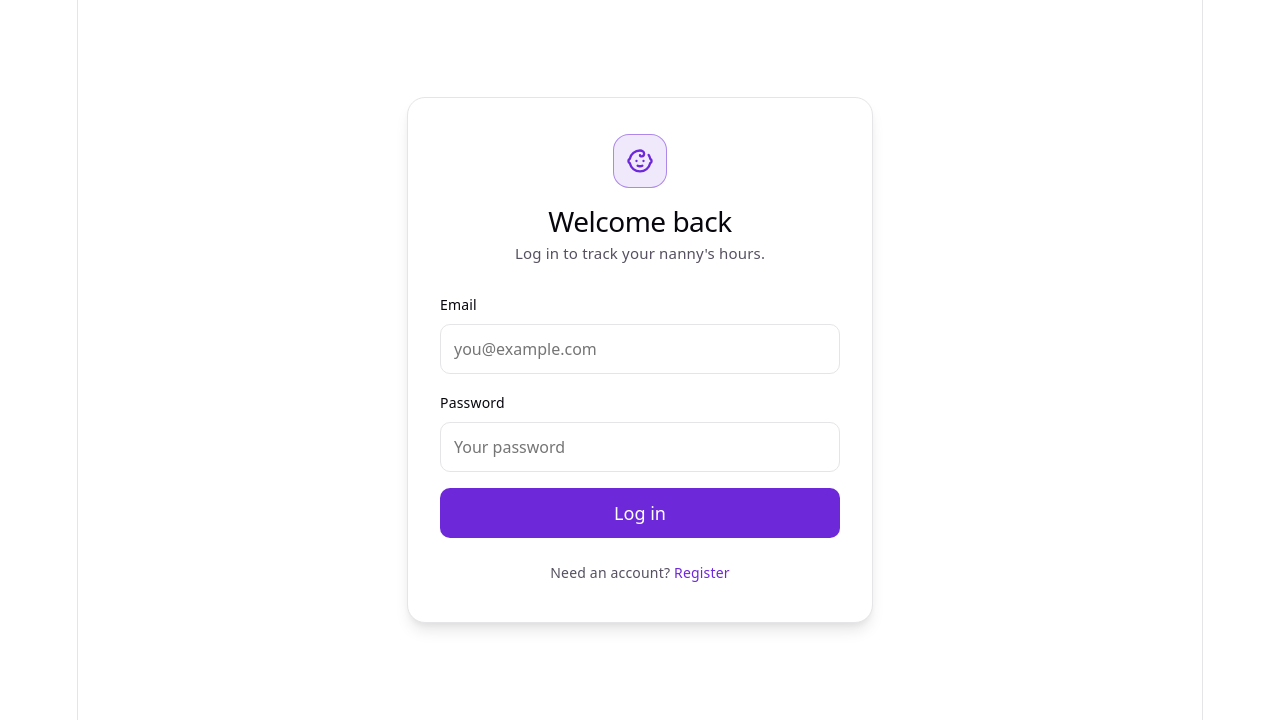
Test: LoginPage › shows an error message when login fails
Type "x@example.com" into the field labelled "Email".
click(640, 349); type("x@example.com")  # box [440, 324, 840, 374]
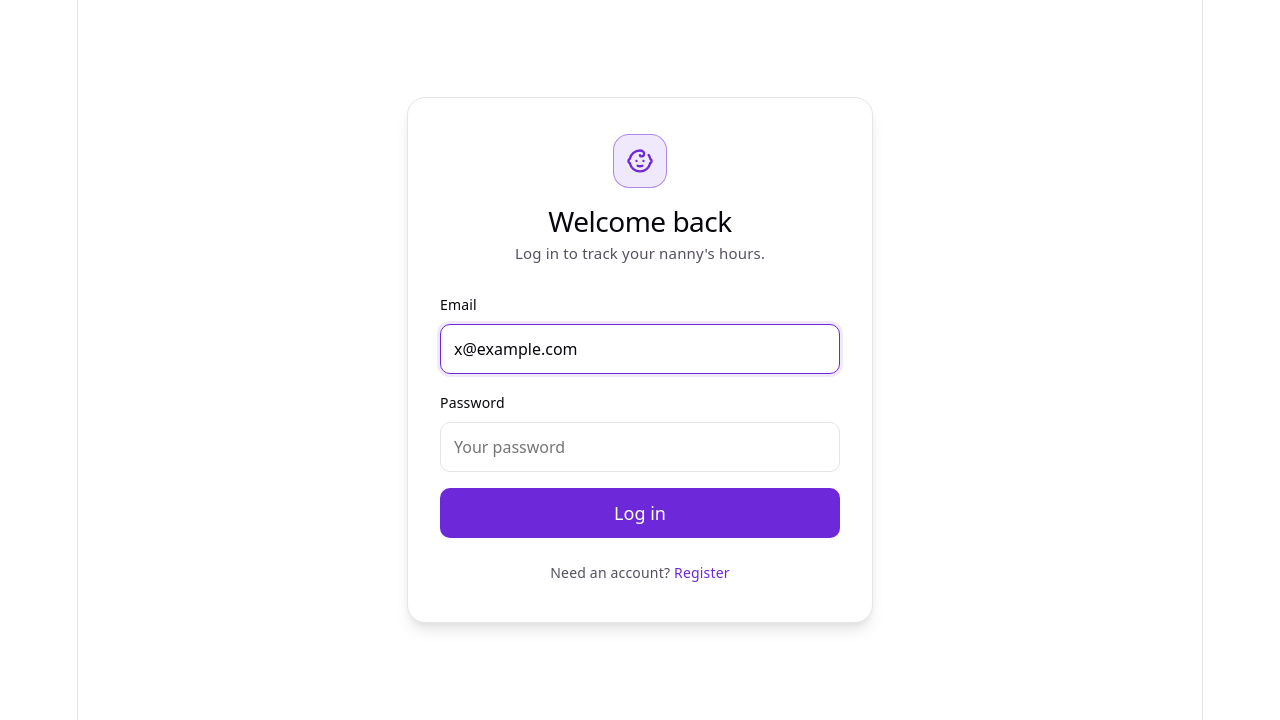
Type "wrong-pass" into the password field labelled "Password".
click(640, 447); type("wrong-pass")  # box [440, 422, 840, 472]
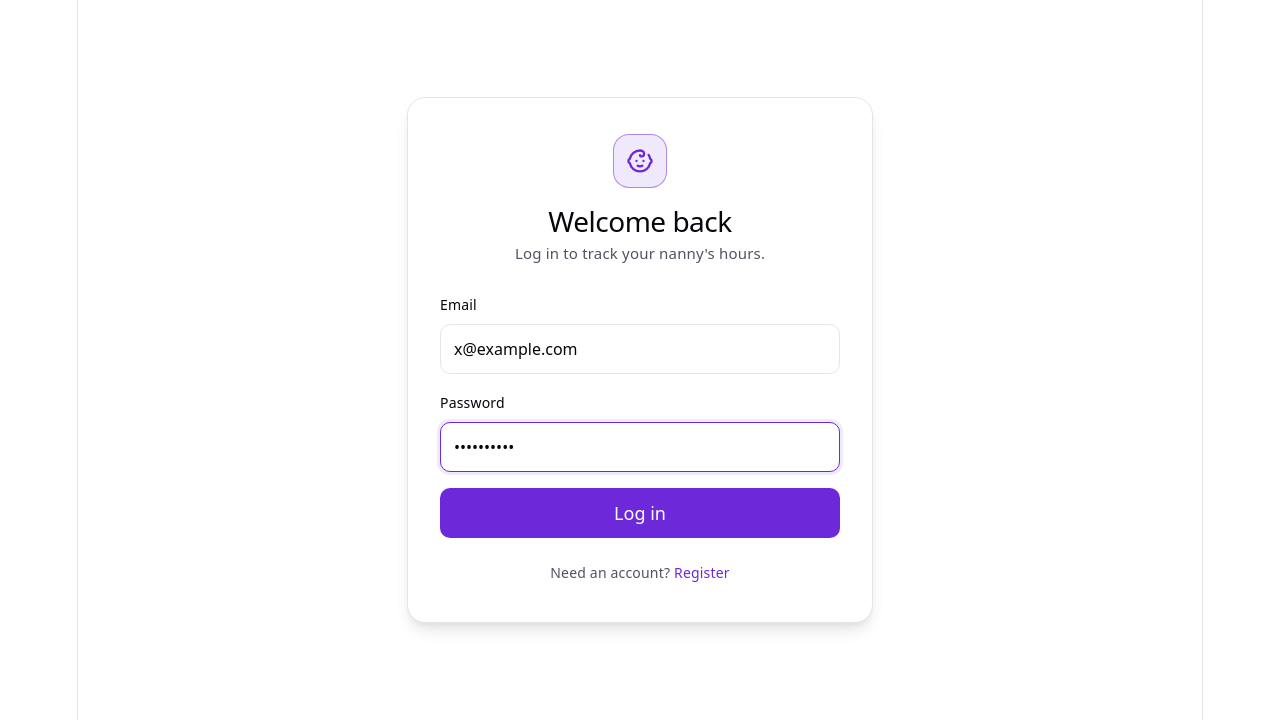
Click the button "Log in".
click(640, 513)  # box [440, 488, 840, 538]
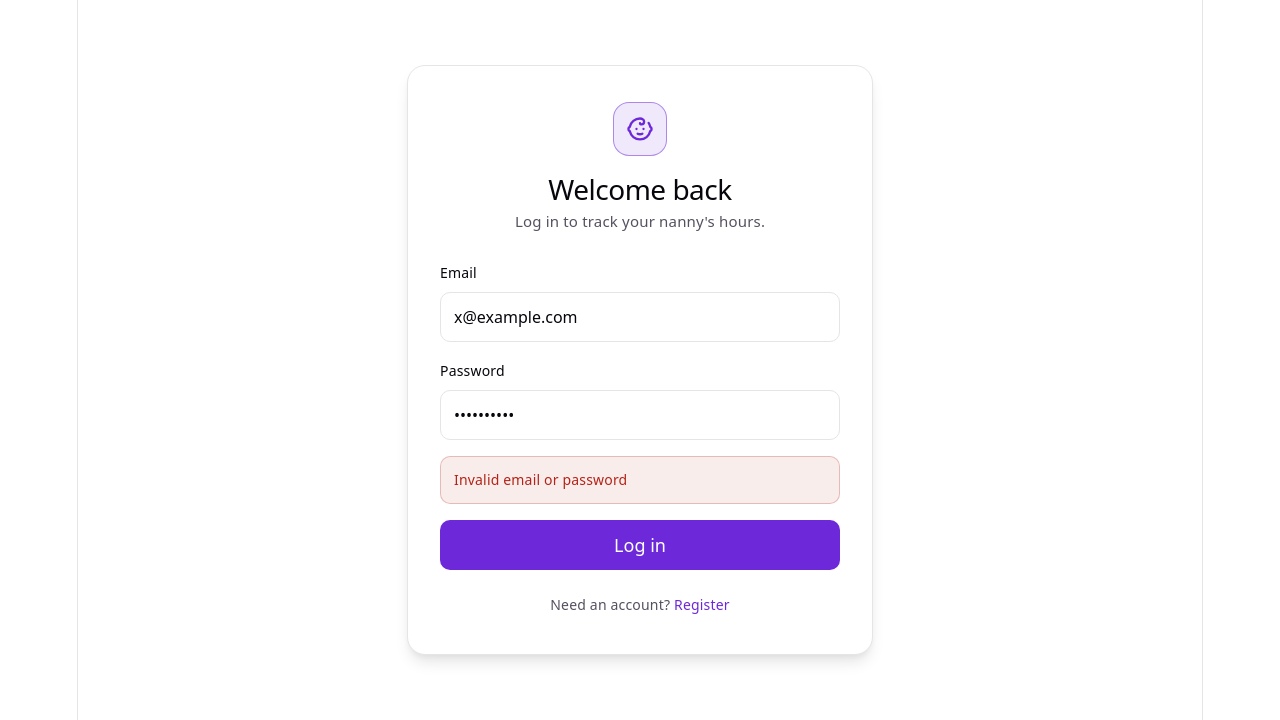
Expected: the message reads "Invalid email or password", [454, 470, 627, 489]
